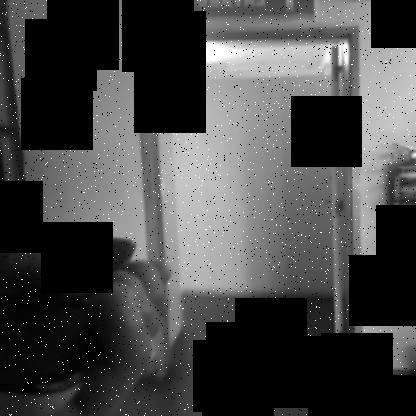Porte: (132, 27, 364, 388)
